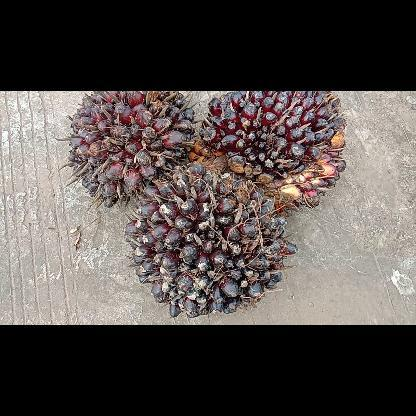TBS mentah: (120, 163, 300, 320), (187, 90, 349, 218), (65, 90, 197, 208)
